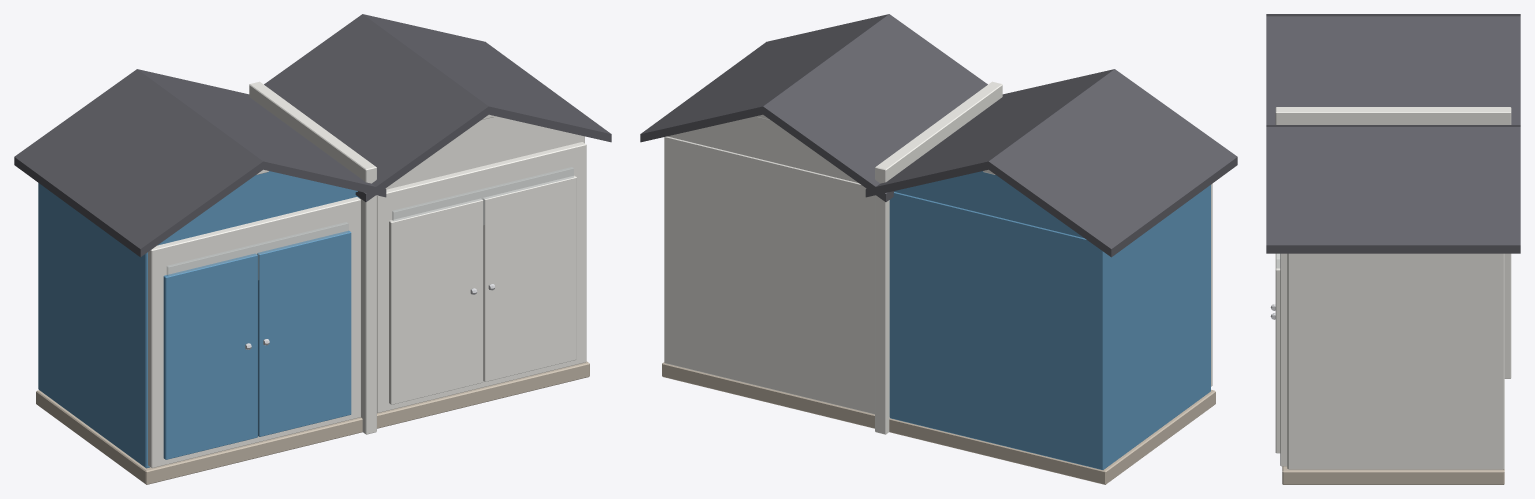
The model's file is amusement-arcade-and-seaside-pier-beach-hut-row-module-99645bf3__35429.glb.
3 renders of one model, left to right at view 1: azimuth 30°, elevation 25°; view 2: azimuth 150°, elevation 25°; view 3: azimuth 270°, elevation 25°, orthographic.
Visible parts, largest first — view 1: beach-hut-row-module-blue; view 2: beach-hut-row-module-blue; view 3: beach-hut-row-module-blue.
Part boxes in pixels (box(x1,y1,x2,y2)): beach-hut-row-module-blue: box(14, 14, 611, 484); beach-hut-row-module-blue: box(640, 14, 1237, 484); beach-hut-row-module-blue: box(1266, 14, 1520, 484).
Size of the model in its own units: 4.18 by 2.57 by 1.94.
